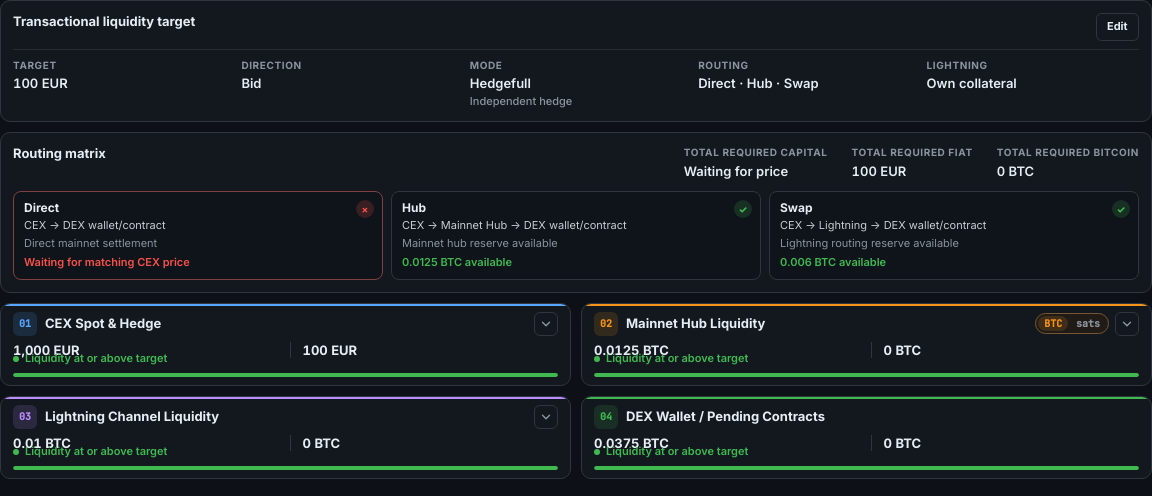
Scenario: LiquidityWorkspace › requires a positive Settings-overlay cap before saving capped volume
Click the button "Edit": (1117, 27) x1=1096 y1=13 x2=1139 y2=41
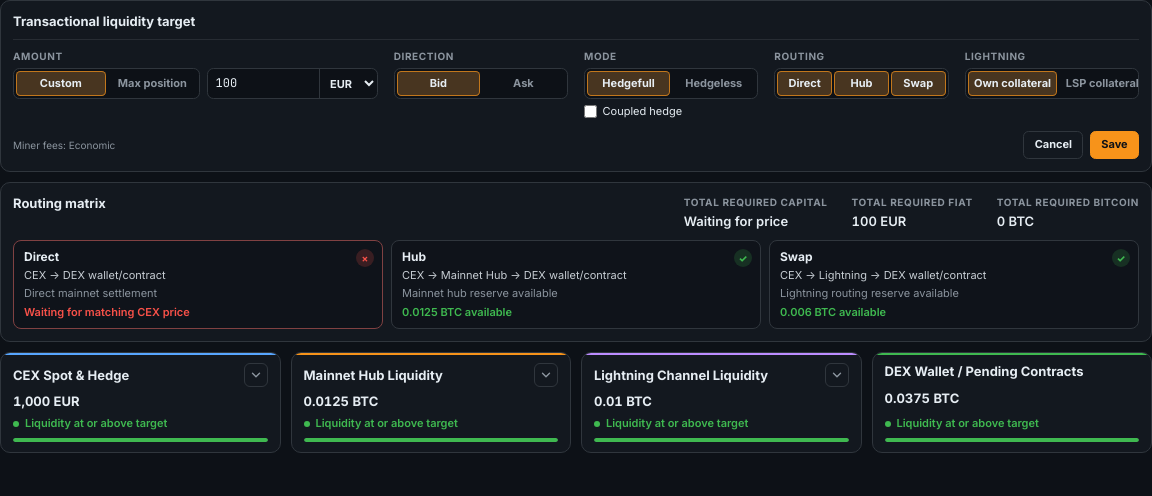
Click the radio button labelled "Max position": (152, 83) x1=118 y1=76 x2=187 y2=90
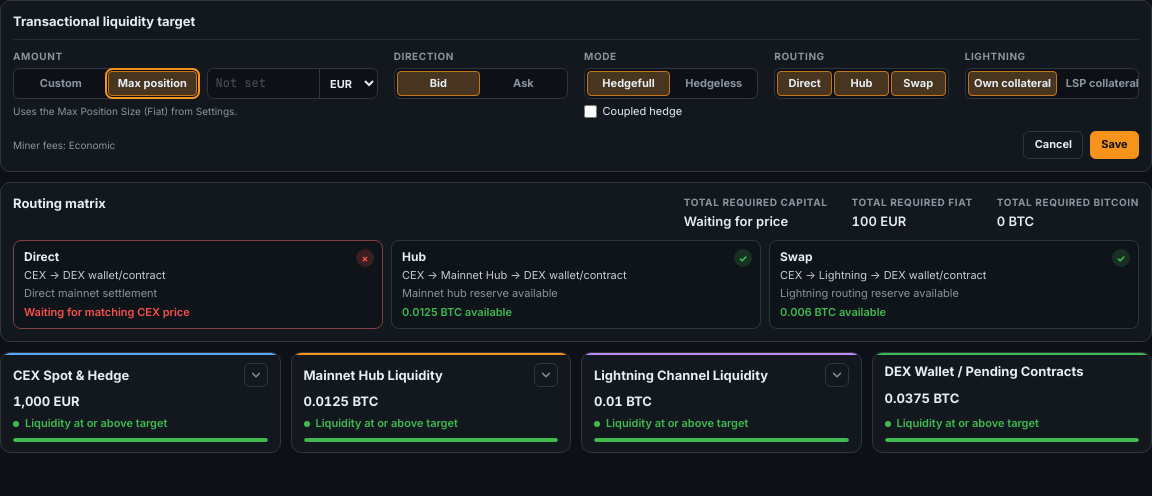
Click the button "Save": (1114, 145) x1=1090 y1=131 x2=1139 y2=159
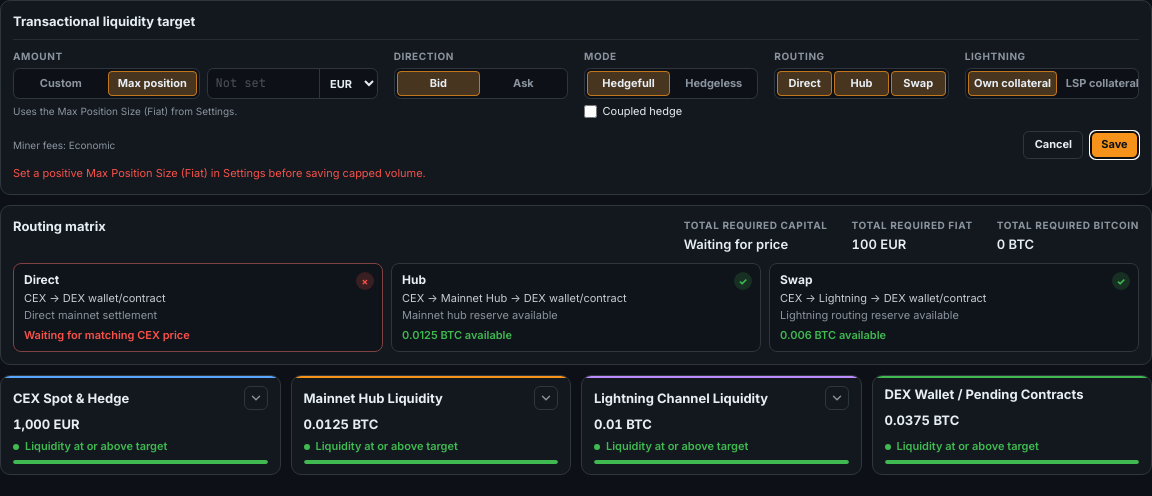
Result: the text "Set a positive Max Position Size (Fiat) in Settings before saving capped volume." is shown at x1=13 y1=166 x2=426 y2=180
